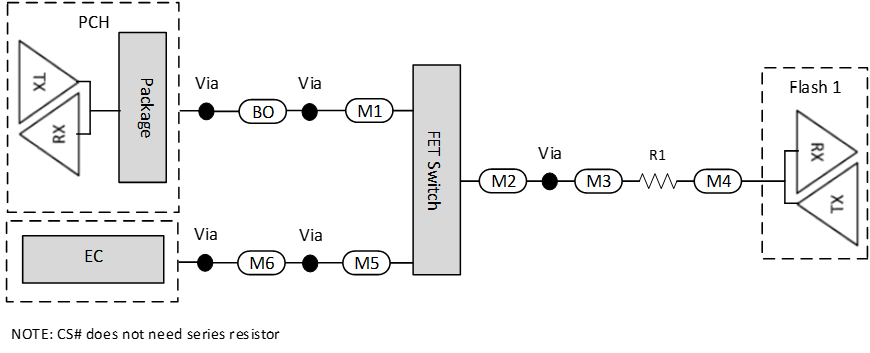circle: (539, 173, 558, 192), (302, 256, 320, 273), (302, 104, 319, 121), (196, 254, 212, 272), (198, 102, 213, 119)
dotted_rectangle: (7, 2, 183, 214), (759, 61, 870, 266), (5, 219, 183, 304)
oval: (694, 165, 744, 195), (575, 165, 623, 195), (345, 98, 394, 125), (482, 168, 528, 195), (343, 252, 390, 275), (238, 253, 284, 276), (237, 101, 287, 122)
rectangle: (411, 63, 462, 278), (20, 233, 167, 285), (118, 30, 167, 186)
resistor: (635, 164, 680, 200)
triangle: (17, 92, 83, 184), (797, 161, 863, 251), (792, 107, 859, 193), (18, 39, 78, 125)
